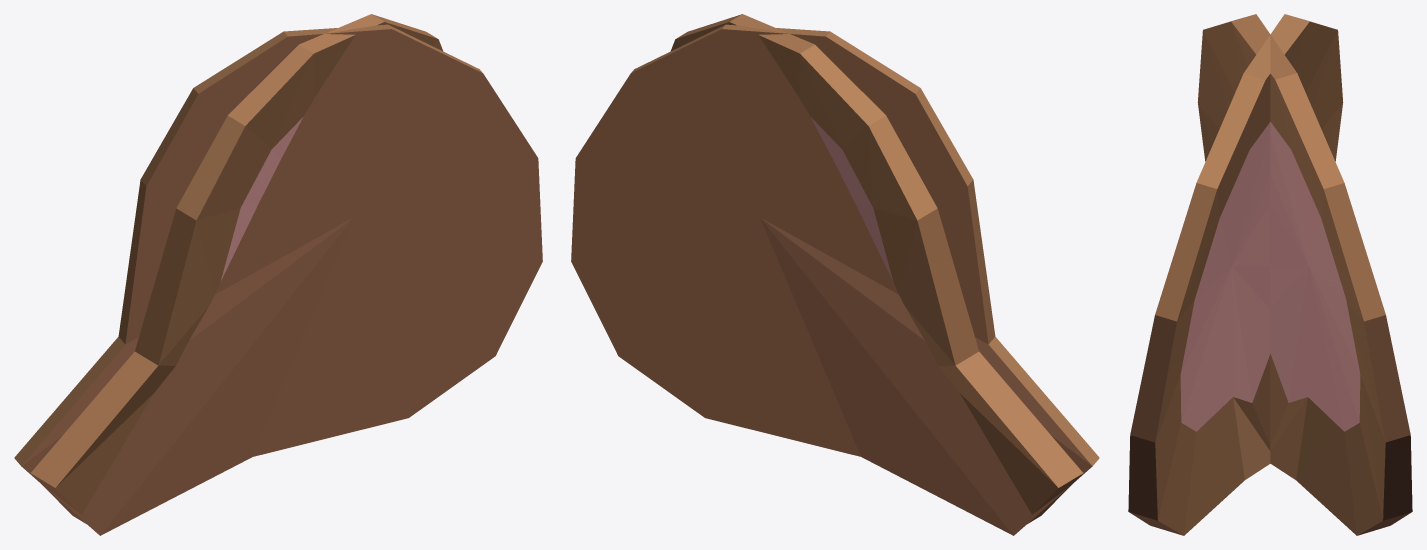
File: mouse_round.glb
3 renders of one model, left to right at view 1: azimuth 30°, elevation 25°; view 2: azimuth 150°, elevation 25°; view 3: azimuth 270°, elevation 25°, orthographic. The views are drawn at different scales.
Visible parts, largest first — view 1: Ear_R, Ear_L; view 2: Ear_L, Ear_R; view 3: Ear_L, Ear_R.
Boxes of the visible parts, x1,y1,x2,y2 form: Ear_R: (14,24,542,535); Ear_L: (31,14,442,523); Ear_L: (571,24,1099,535); Ear_R: (671,14,1082,523); Ear_L: (1197,14,1412,535); Ear_R: (1128,14,1343,535).
Size of the model in its own units: 0.1277 by 0.1137 by 0.0512.
1 material, 1 textured.
